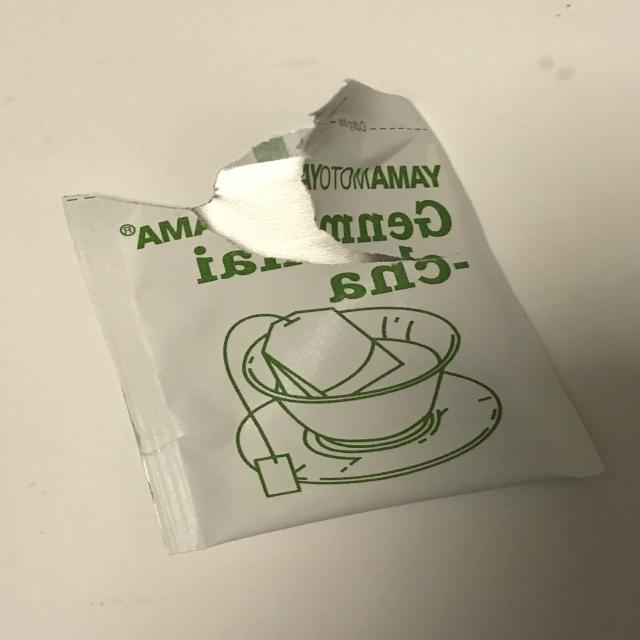trash: (61, 78, 607, 555)
